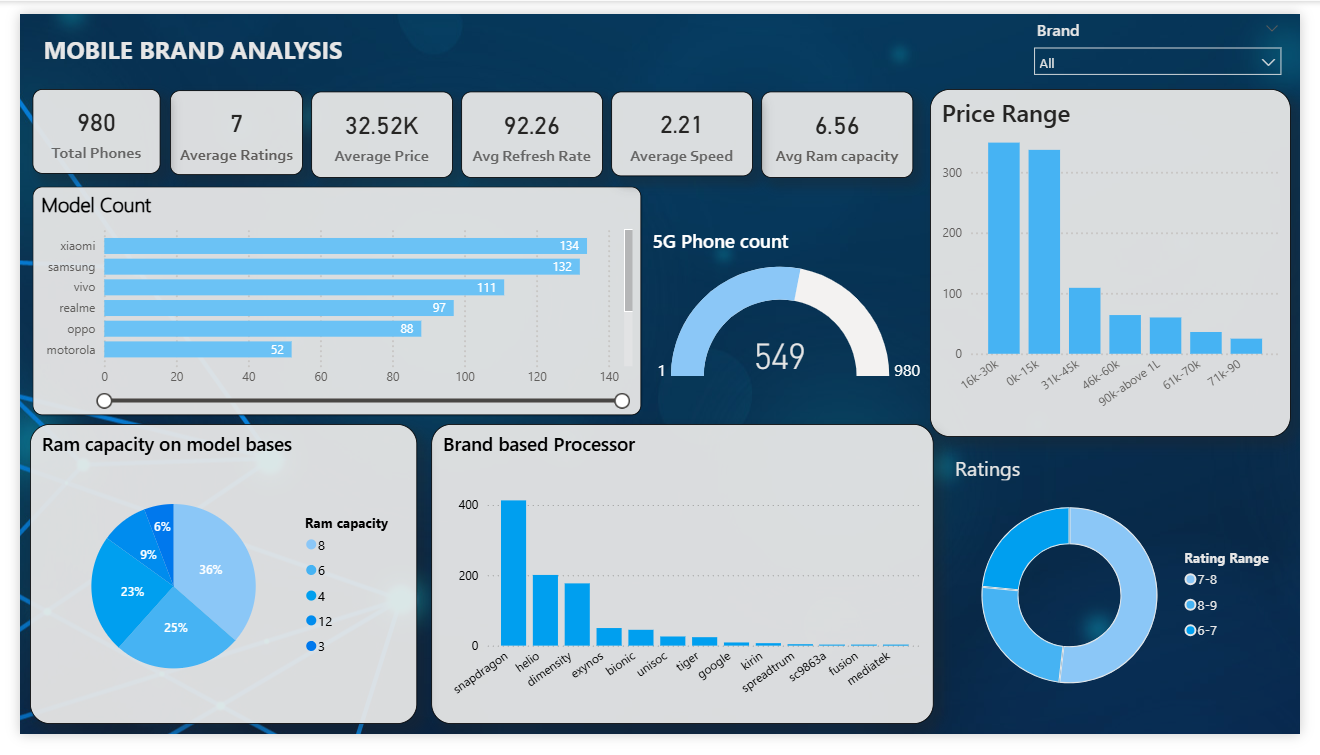

This screenshot's page, from the dashboard's own definition file:
{"tool":"powerbi","page":{"name":"Summary","canvas":[1280,720],"ordinal":3},"visuals":[{"type":"card","fields":{"Values":["Real World Smartphone's Dataset export 2025-07-25 13-08-29.Measure"]},"box":[149.8,76.7,133,85.1],"z":0},{"type":"card","fields":{"Values":["Real World Smartphone's Dataset export 2025-07-25 13-08-29.Average Price"]},"box":[291.2,77.9,141.4,86.3],"z":1000},{"type":"card","fields":{"Values":["Real World Smartphone's Dataset export 2025-07-25 13-08-29.Total Phones"]},"box":[12,75.5,128.2,85.1],"z":2000},{"type":"textbox","box":[9.6,15.6,326,41.9],"z":3000},{"type":"donutChart","title":"Ratings","fields":{"Category":["Real World Smartphone's Dataset.Rating Range"],"Y":["CountNonNull(Real World Smartphone's Dataset.model)"]},"box":[930,439.9,340.4,256.5],"z":4000},{"type":"card","fields":{"Values":["Real World Smartphone's Dataset.Refresh Rate"]},"box":[441,77.9,141.4,86.3],"z":5000},{"type":"barChart","title":"Model Count","fields":{"Category":["Real World Smartphone's Dataset.brand_name"],"Y":["CountNonNull(Real World Smartphone's Dataset.model)"]},"box":[12,172.6,608.8,228.9],"z":6000},{"type":"clusteredColumnChart","title":"Price Range ","fields":{"Category":["Real World Smartphone's Dataset.Price Range"],"Y":["CountNonNull(Real World Smartphone's Dataset.model)"]},"box":[910,75.6,361.1,347.8],"z":7000},{"type":"gauge","title":"5G Phone count","fields":{"Y":["Sum(Real World Smartphone's Dataset.5G_or_not)"],"MinValue":["Real World Smartphone's Dataset.Min count"],"MaxValue":["Real World Smartphone's Dataset.Max count"]},"box":[628,213.3,282.8,167.8],"z":8000},{"type":"card","fields":{"Values":["Avg(Real World Smartphone's Dataset.ram_capacity)"]},"box":[741,78,152,86],"z":12000},{"type":"card","fields":{"Values":["Avg(Real World Smartphone's Dataset.processor_speed)"]},"box":[590.9,77.9,141.4,85.1],"z":13000},{"type":"columnChart","title":"Brand based Processor","fields":{"Category":["Real World Smartphone's Dataset.processor_brand"],"Y":["CountNonNull(Real World Smartphone's Dataset.brand_name)"]},"box":[411.1,409.9,502.2,299.6],"z":14000},{"type":"donutChart","title":"Ram capacity on model bases","fields":{"Y":["CountNonNull(Real World Smartphone's Dataset.ram_capacity)"],"Category":["Real World Smartphone's Dataset.ram_capacity"]},"box":[9.6,409.9,387.1,299.6],"z":15000},{"type":"slicer","fields":{"Values":["Real World Smartphone's Dataset.brand_name"]},"box":[1003.1,0,267.3,61.1],"z":16000}]}

Visuals, with their boxes in screenshot pixels (x1, y1, x2, y2), scaled from the page's 1280x720 canvas onto the 1320x755 screenshot:
card - Real World Smartphone's Dataset export 2025-07-25 13-08-29.Measure: 154:80:292:170
card - Real World Smartphone's Dataset export 2025-07-25 13-08-29.Average Price: 300:82:446:172
card - Real World Smartphone's Dataset export 2025-07-25 13-08-29.Total Phones: 12:79:145:168
textbox: 10:16:346:60
"Ratings" donutChart: 959:461:1310:730
card - Real World Smartphone's Dataset.Refresh Rate: 455:82:601:172
"Model Count" barChart: 12:181:640:421
"Price Range " clusteredColumnChart: 938:79:1311:444
"5G Phone count" gauge: 648:224:939:400
card - Avg(Real World Smartphone's Dataset.ram_capacity): 764:82:921:172
card - Avg(Real World Smartphone's Dataset.processor_speed): 609:82:755:171
"Brand based Processor" columnChart: 424:430:942:744
"Ram capacity on model bases" donutChart: 10:430:409:744
slicer - Real World Smartphone's Dataset.brand_name: 1034:0:1310:64
